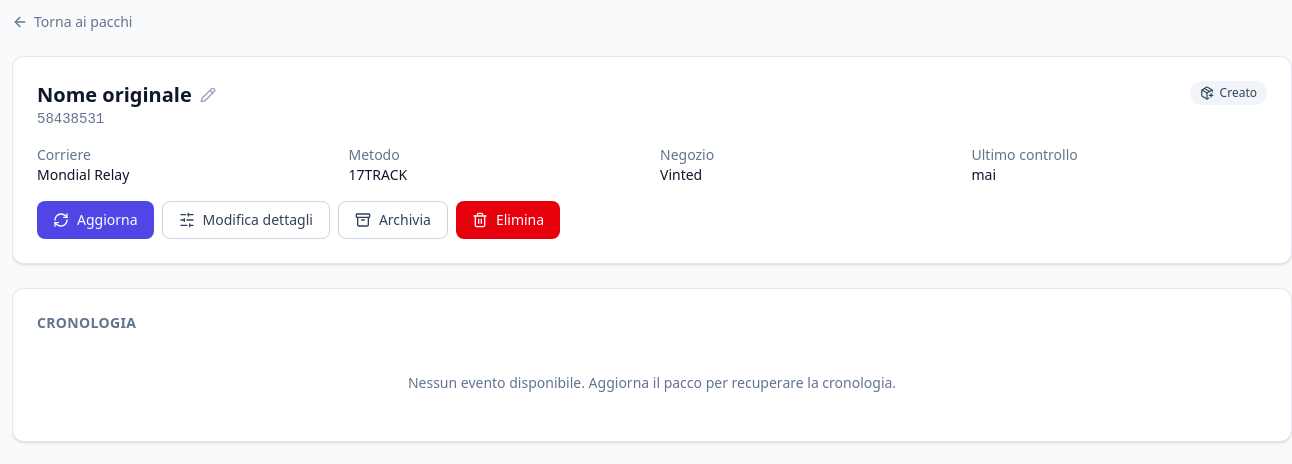
TrackerDetail rename › discards the draft when the user cancels
Check: the heading "Nome originale" is shown, box [37,81,192,109]
Step 1. Click the button named "Rinomina tracker" → coordinates (208, 95), box [200,87,216,103]
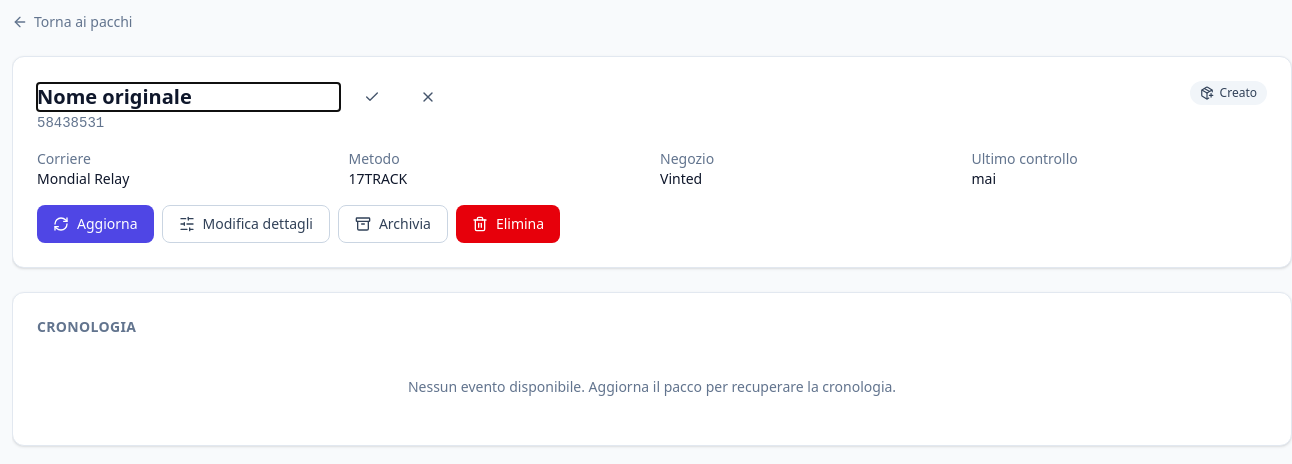
Step 2. Replace the text in the field with placeholder "Nome del tracker" with "Qualcosa che non salverò" → coordinates (188, 97), box [37,83,340,111]
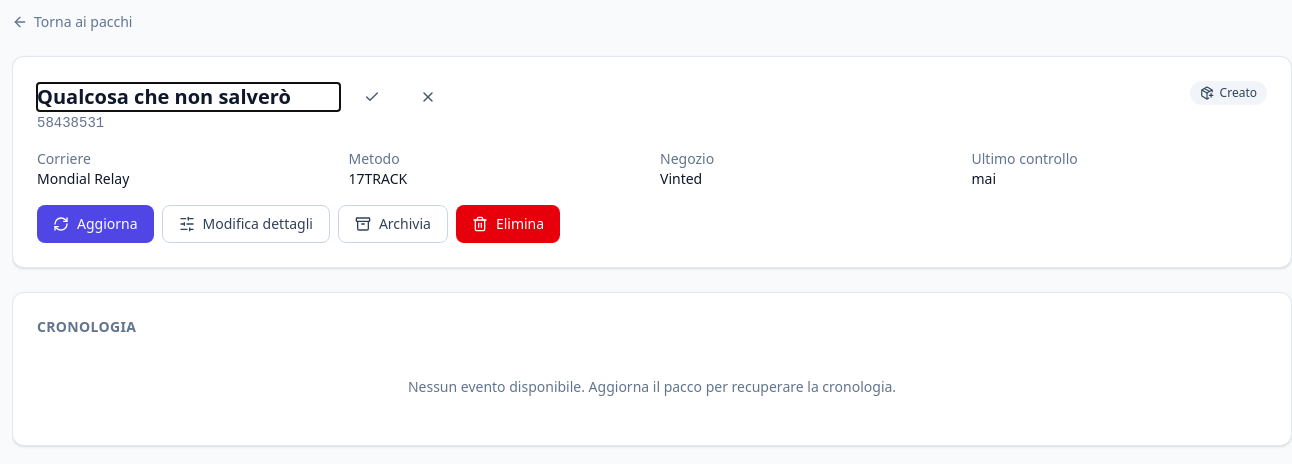
Step 3. Click the button named "Annulla" → coordinates (428, 97), box [404,81,452,113]
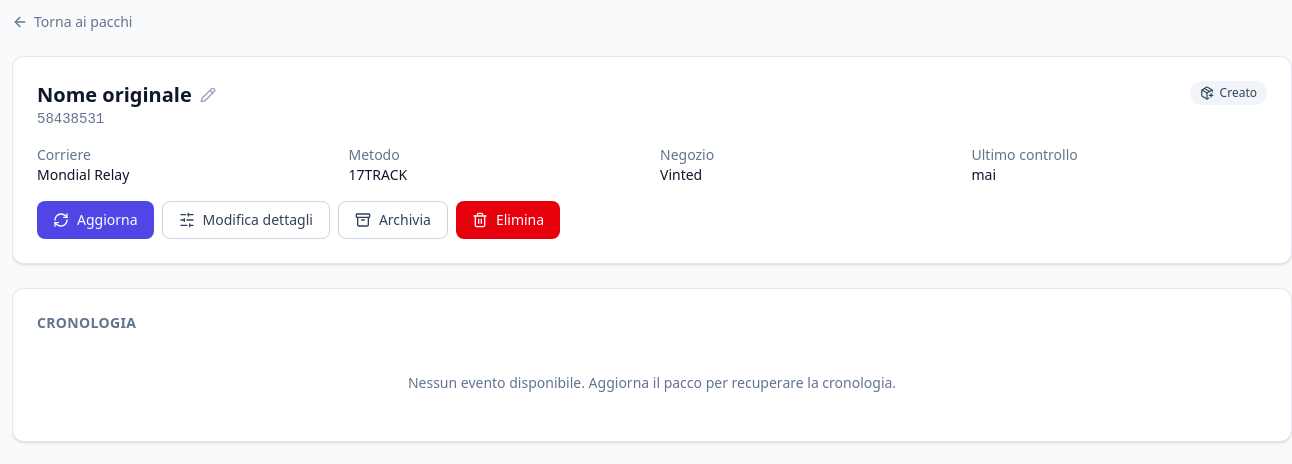
Check: the heading "Nome originale" is shown, box [37,81,192,109]
